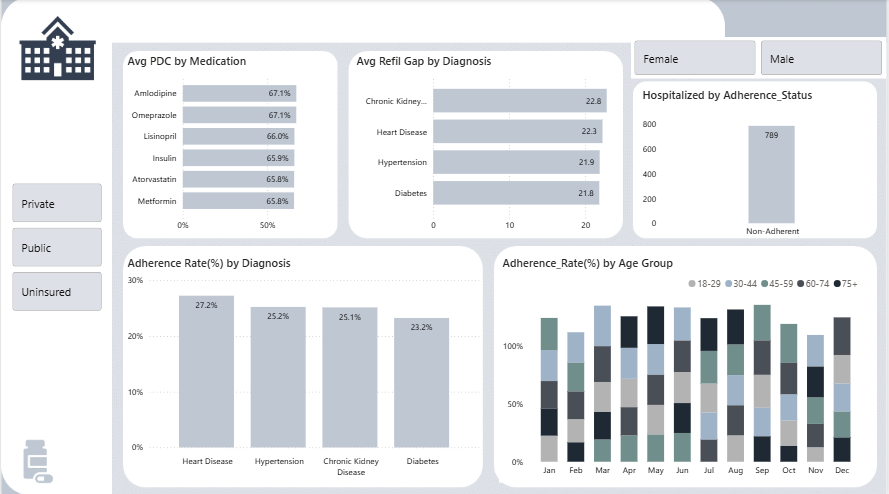

The page's visual inventory and layout, read from the dashboard file:
{"tool":"powerbi","page":{"name":"Page 2","canvas":[1280,720],"ordinal":1},"visuals":[{"type":"ribbonChart","title":"Adherence_Rate(%) by Age Group","fields":{"Category":["Month_Lookup.Observation_Month"],"Series":["medication_adherence.Age Group"],"Y":["medication_adherence.Adherence_Rate(%)"]},"box":[720,370.8,529.2,329.2],"z":0},{"type":"barChart","title":"Avg PDC by Medication","fields":{"Y":["medication_adherence.Average_PDC"],"Category":["medication_adherence.Medication"]},"box":[178.5,78.5,304.6,267.7],"z":1000},{"type":"barChart","title":"Avg Refil Gap by Diagnosis","fields":{"Y":["medication_adherence.Average_Refil_Gap"],"Category":["medication_adherence.Diagnosis"]},"box":[508.9,78.1,413.5,267.5],"z":2000},{"type":"clusteredColumnChart","title":"Adherence Rate(%) by Diagnosis","fields":{"Category":["medication_adherence.Diagnosis"],"Y":["medication_adherence.Adherence_Rate(%)"]},"box":[178.5,370.8,520,329.2],"z":3000},{"type":"clusteredColumnChart","title":"Hospitalized by Adherence_Status","fields":{"Category":["medication_adherence.Adherence_Status"],"Y":["CountNonNull(medication_adherence.Hospitalized)"]},"box":[922.4,127.2,357.1,227],"z":4000},{"type":"advancedSlicerVisual","fields":{"Values":["medication_adherence.Sex"]},"box":[910.8,55.4,369.2,60],"z":5000},{"type":"advancedSlicerVisual","fields":{"Values":["medication_adherence.Insurance_Type"]},"box":[11.8,261.6,139.6,195.4],"z":6000}]}

Visuals, with their boxes in screenshot pixels (x1, y1, x2, y2), scaled from the page's 1280x720 canvas onto the 889x494 screenshot:
"Adherence_Rate(%) by Age Group" ribbonChart: box=[500, 254, 868, 480]
"Avg PDC by Medication" barChart: box=[124, 54, 336, 238]
"Avg Refil Gap by Diagnosis" barChart: box=[353, 54, 641, 237]
"Adherence Rate(%) by Diagnosis" clusteredColumnChart: box=[124, 254, 485, 480]
"Hospitalized by Adherence_Status" clusteredColumnChart: box=[641, 87, 888, 243]
advancedSlicerVisual - medication_adherence.Sex: box=[633, 38, 888, 79]
advancedSlicerVisual - medication_adherence.Insurance_Type: box=[8, 179, 105, 314]
